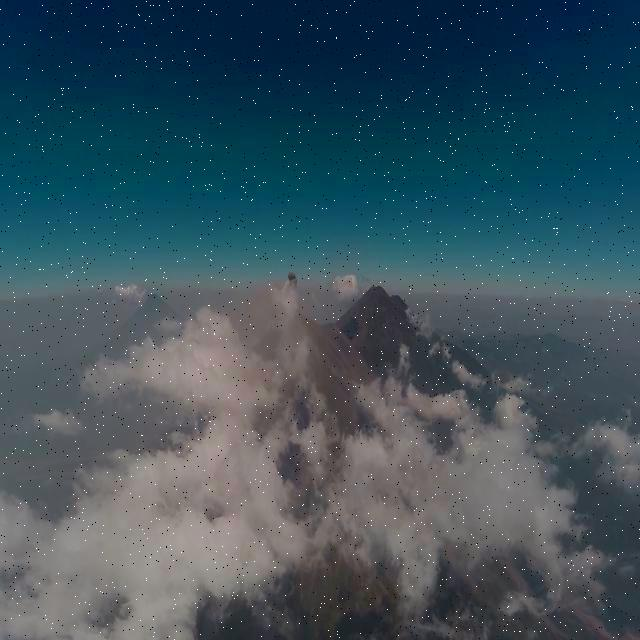Plume: (283, 270, 297, 293)
